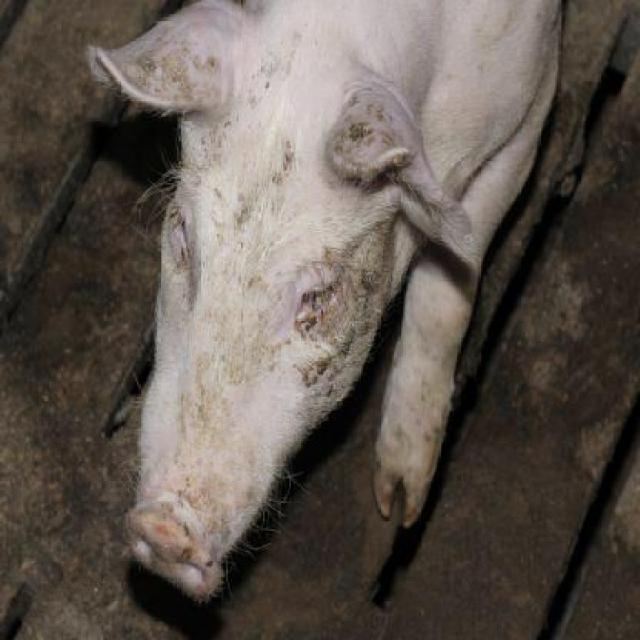Boar: (78, 0, 564, 606)
